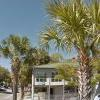Palm tree: (41, 1, 99, 99)
